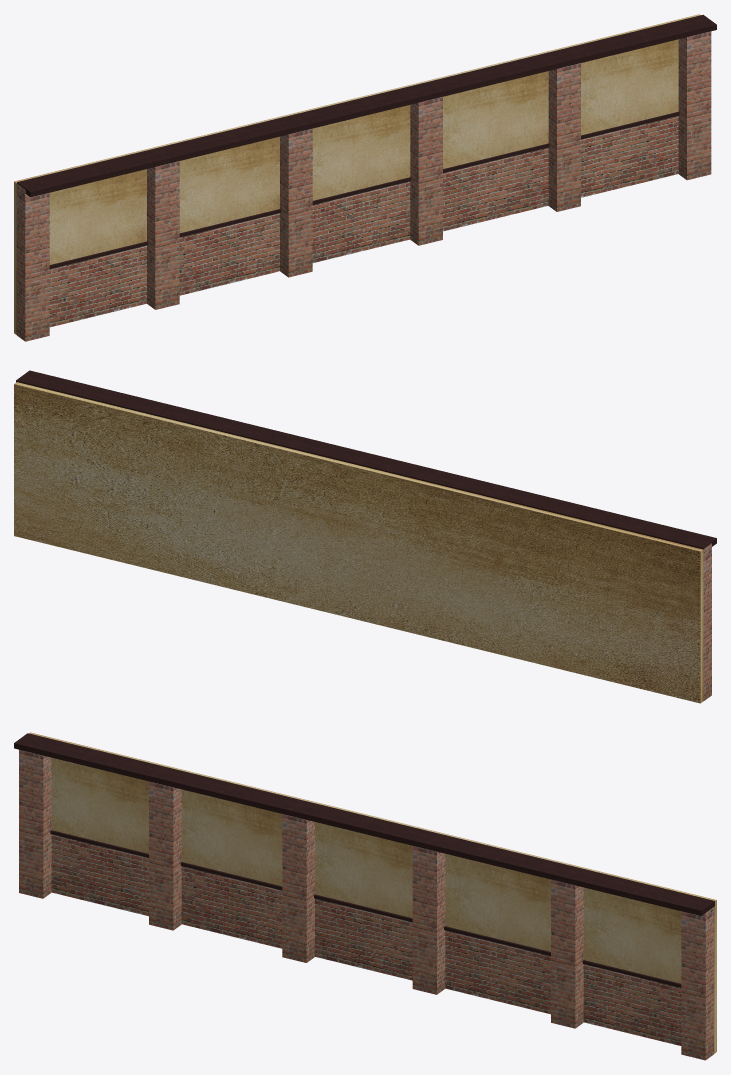
Rendered from Wall 1.FBX.
The picture shows the model from 3 angles, top to bottom: view 1: azimuth 30°, elevation 25°; view 2: azimuth 150°, elevation 25°; view 3: azimuth 330°, elevation 25°; orthographic projection.
Visible parts, largest first — view 1: wall 1; view 2: wall 1; view 3: wall 1.
Part boxes in pixels (x1,y1,x2,y2): wall 1: (14, 14, 716, 341); wall 1: (14, 370, 716, 703); wall 1: (14, 732, 716, 1060).
Bounding box in the file's own units: 14165 × 590 × 3022.
Materials: 3 (3 with a texture image).
